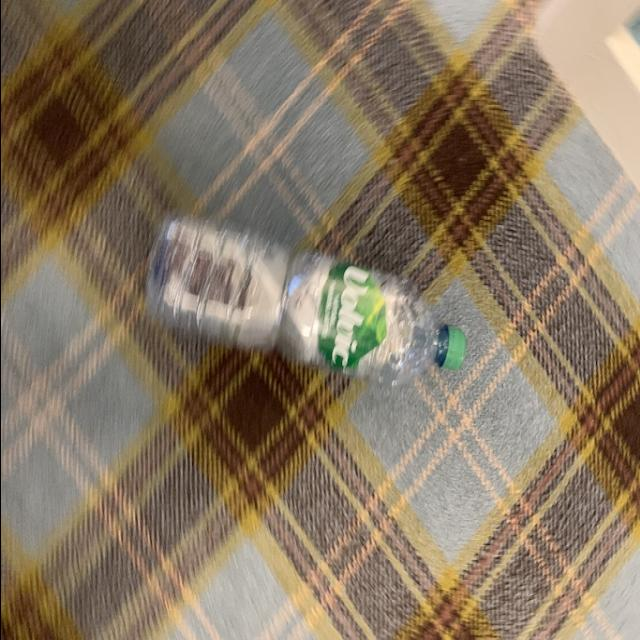PET: (138, 212, 462, 388)
